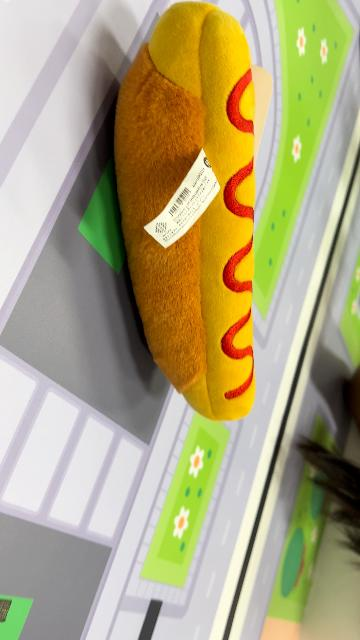hotdog: (113, 2, 260, 424)
